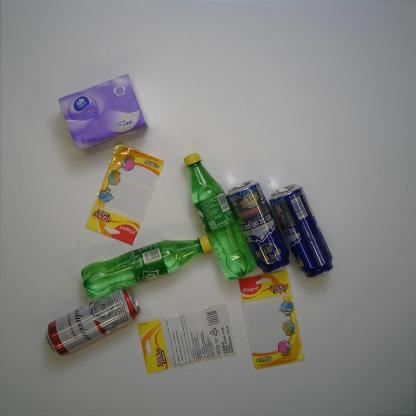Alcohol: (45, 287, 141, 359), (268, 183, 335, 279), (226, 178, 291, 274)
Drink: (184, 152, 256, 282), (80, 234, 213, 300)
Stationery: (83, 140, 166, 247), (136, 302, 238, 376), (236, 270, 306, 372)
Tissue: (57, 72, 151, 152)
